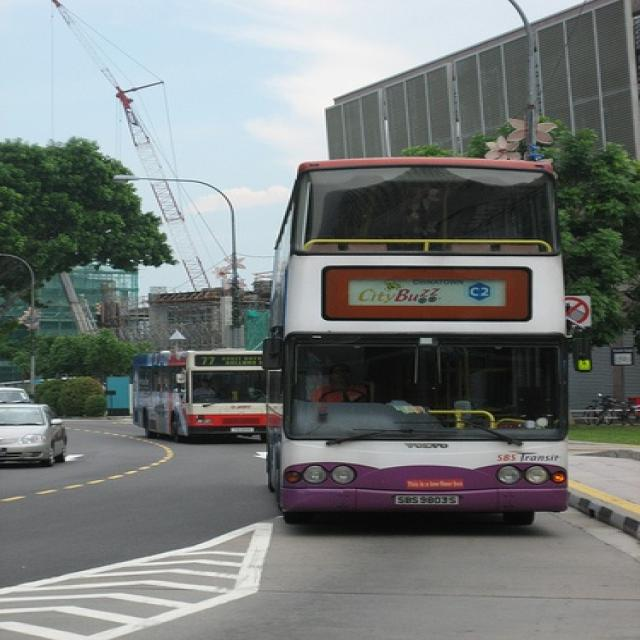bus: (265, 156, 570, 529), (132, 349, 264, 439)
car: (0, 403, 70, 466), (2, 385, 32, 403)
